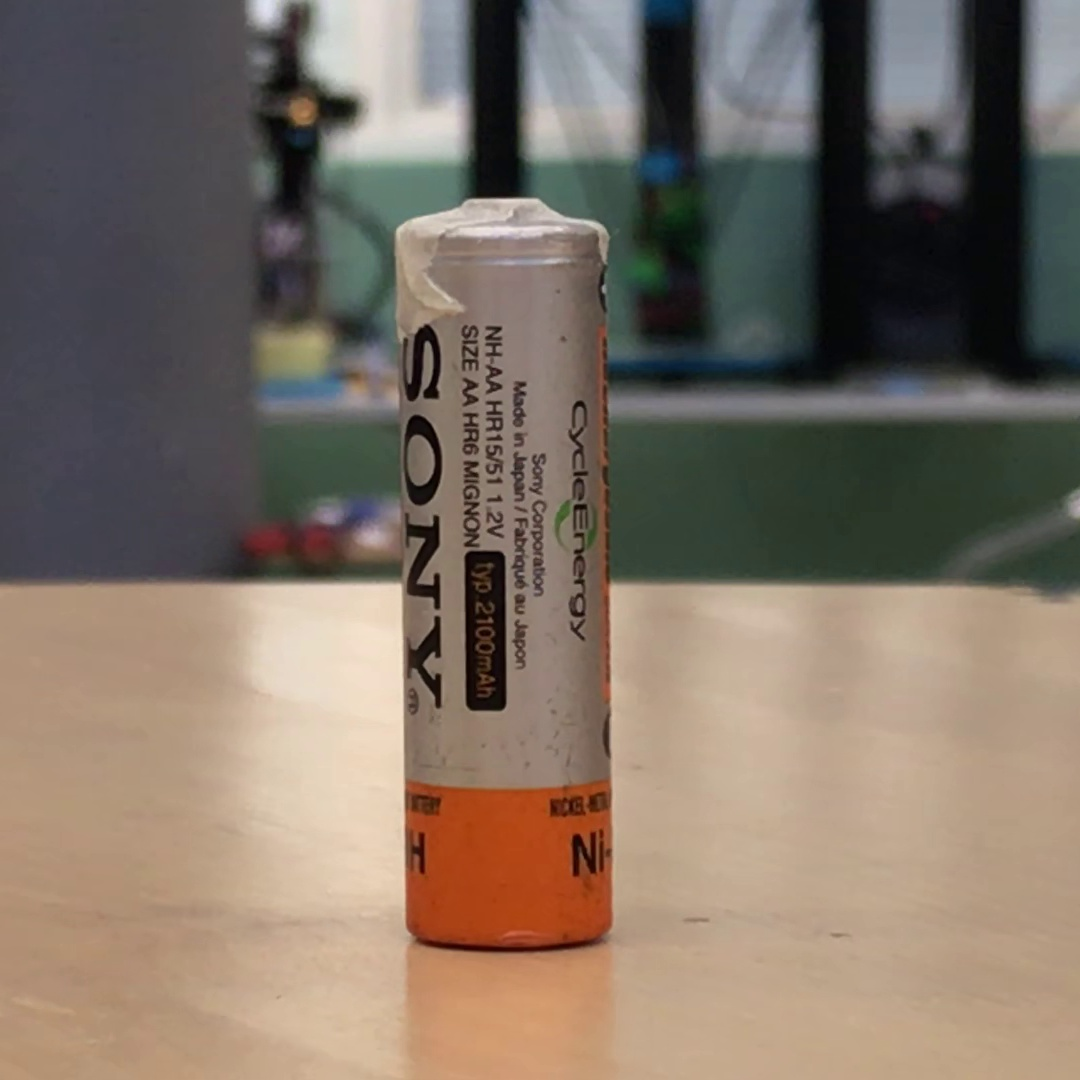keyword: (476, 485, 514, 548), (452, 402, 489, 465)
